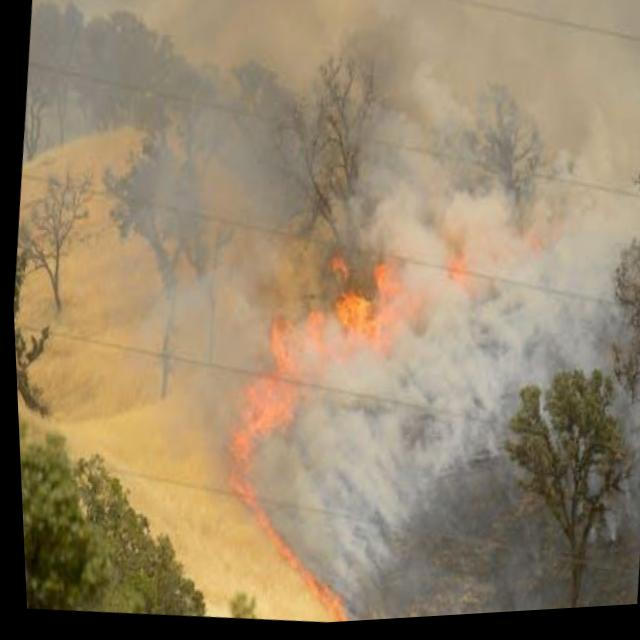fire: (232, 215, 503, 416), (219, 490, 358, 629), (212, 356, 313, 511)
